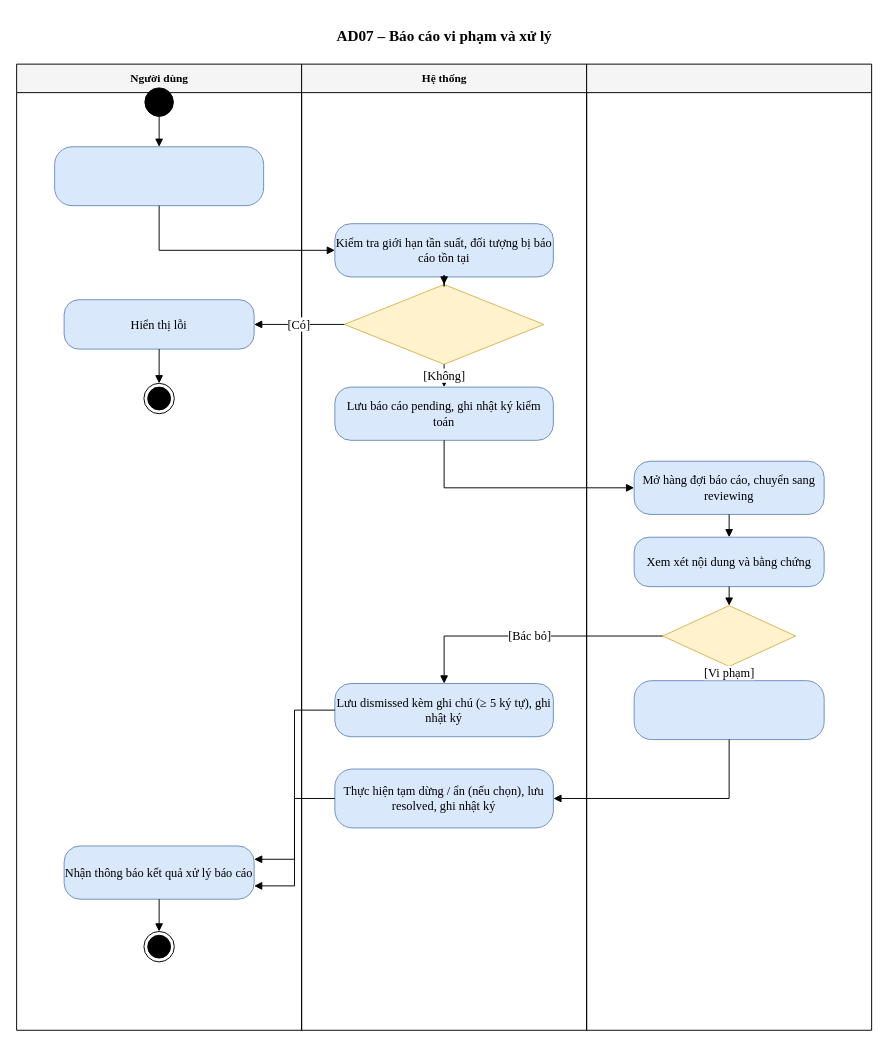
Some shapes in this 888 by 1047 pixel diagram are drawn without their labels. The box of each missing label's shape, as (x1, y1, x2, y2) in pixels:
Chọn “Báo cáo” trên chiến dịch hoặc bình luận; chọn lý do, mô tả: (54, 146, 264, 206)
Kết luận?: (662, 605, 796, 666)
Nhập ghi chú; tùy chọn tạm dừng chiến dịch / ẩn bình luận: (633, 680, 824, 740)
Quản trị viên: (586, 63, 872, 1030)
Tự báo cáo của mình hoặc đã có báo cáo đang chờ?: (343, 284, 544, 364)
